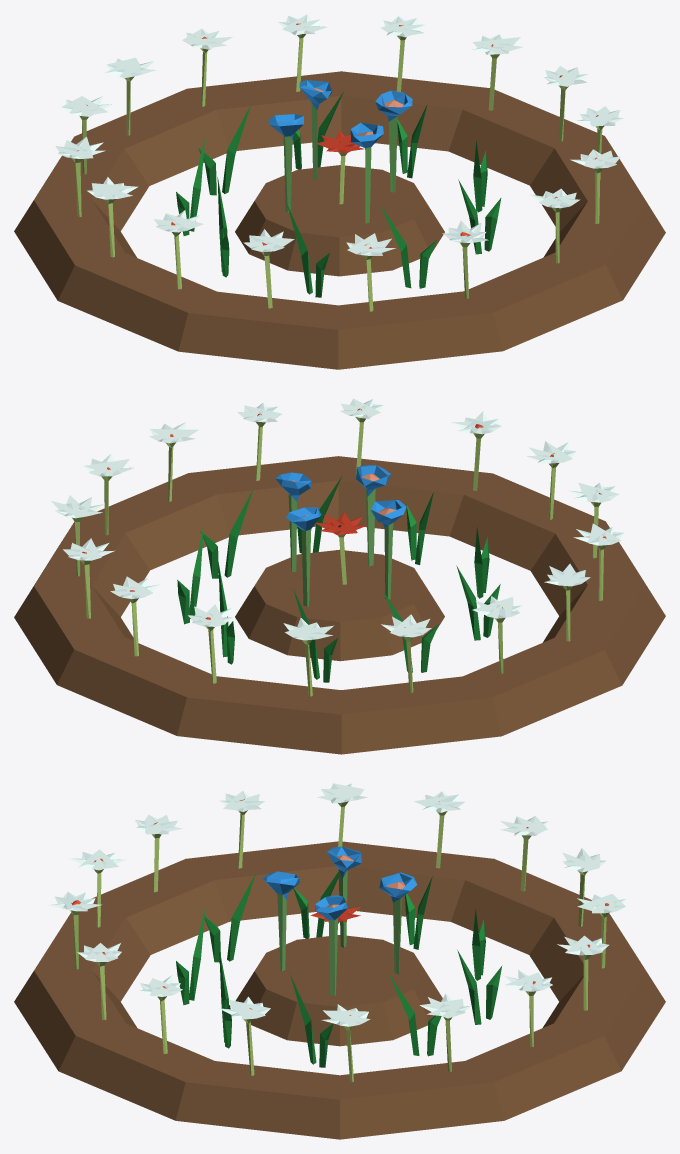
The model's file is FlowerBed_A.fbx.
The picture shows the model from 3 angles, top to bottom: view 1: azimuth 30°, elevation 25°; view 2: azimuth 150°, elevation 25°; view 3: azimuth 270°, elevation 25°; orthographic projection.
Visible parts, largest first — view 1: FlowerBed_A; view 2: FlowerBed_A; view 3: FlowerBed_A.
Part boxes in pixels (bbox=[...]): FlowerBed_A: bbox=[14, 14, 665, 369]; FlowerBed_A: bbox=[14, 398, 665, 754]; FlowerBed_A: bbox=[14, 783, 665, 1139].
Size of the model in its own units: 96.95 by 20.72 by 96.95.
